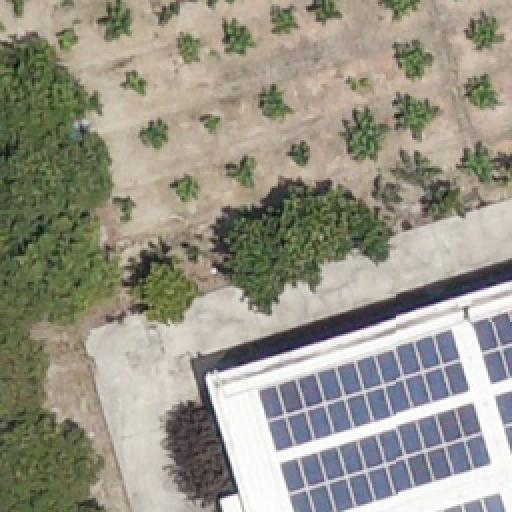solar-panel: (260, 328, 472, 452), (278, 400, 494, 512), (472, 310, 512, 382), (432, 489, 508, 511), (492, 389, 512, 459)
